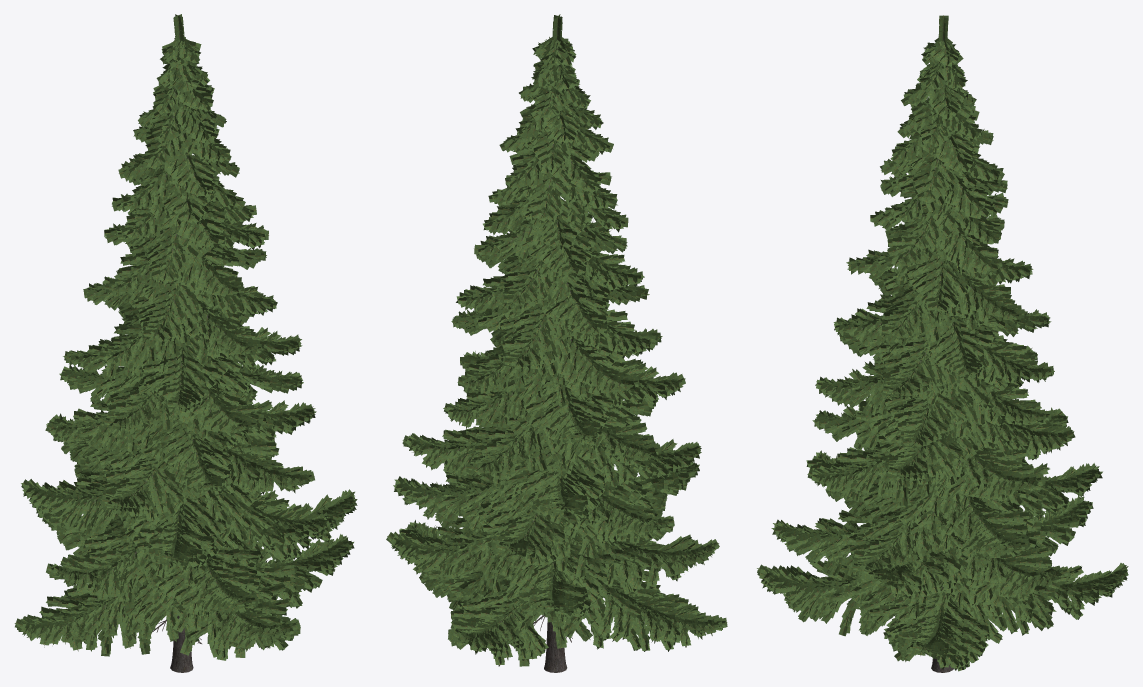
File: Tree.obj
The picture shows the model from 3 angles, left to right: view 1: azimuth 30°, elevation 25°; view 2: azimuth 150°, elevation 25°; view 3: azimuth 270°, elevation 25°; orthographic projection.
Parts seen in each view (by area): view 1: 3DPaz_fir-tree_01_Mesh; view 2: 3DPaz_fir-tree_01_Mesh; view 3: 3DPaz_fir-tree_01_Mesh.
Part boxes in pixels (x1=…): 3DPaz_fir-tree_01_Mesh: x1=14, y1=14, x2=357, y2=672; 3DPaz_fir-tree_01_Mesh: x1=386, y1=14, x2=727, y2=672; 3DPaz_fir-tree_01_Mesh: x1=757, y1=15, x2=1128, y2=672.
Bounding box in the file's own units: 7.99 × 15.21 × 7.89.
2 materials, 2 textured.
